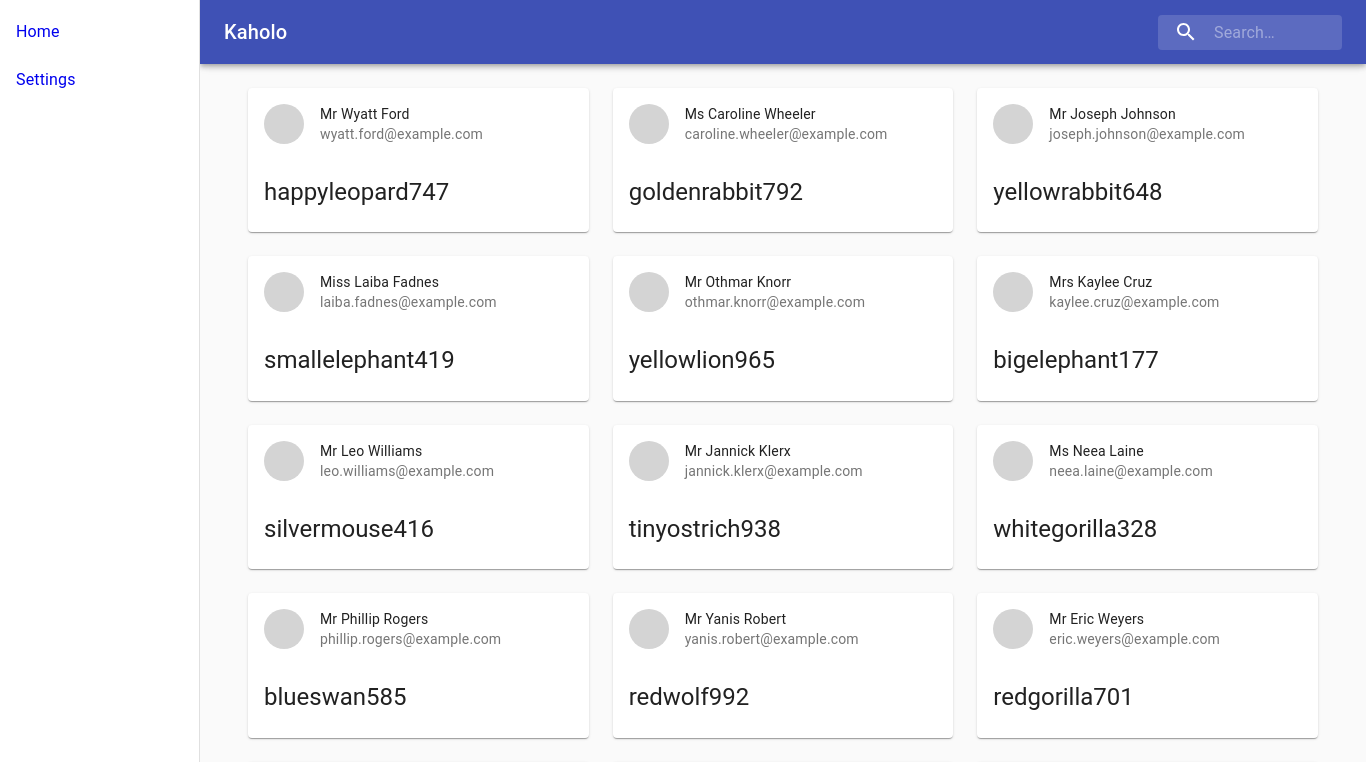
Home page › Should allow user details review
The width and height of the screenshot is (1366, 762).
Step 1. Click the element showing "Mr Wyatt Ford wyatt.ford@example.com happyleopard747" → (419, 160), box [248,88,589,232]
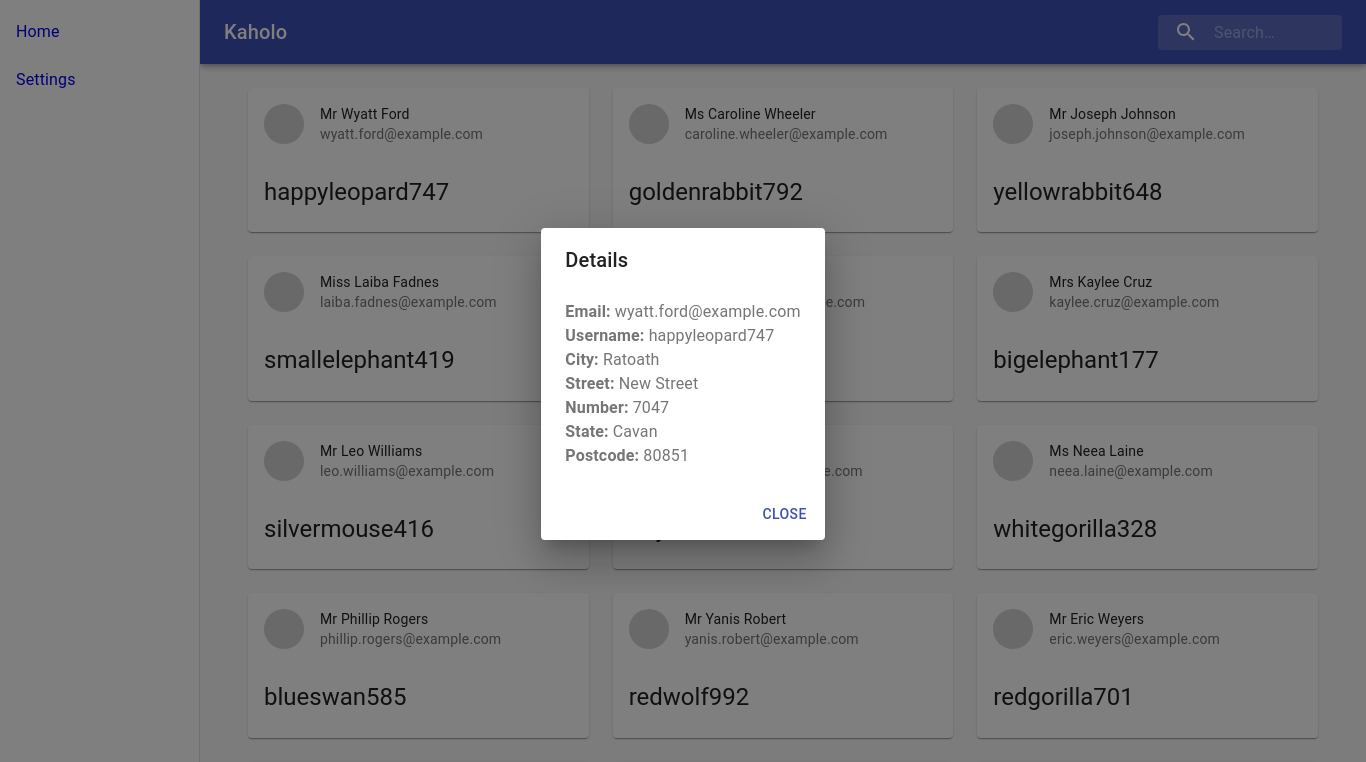
Expected: the text "wyatt.ford@example.com" is shown, [615,302,801,321]
Expected: the text "happyleopard747" is shown, [649,326,775,345]
Expected: the text "Ratoath" is shown, [603,350,660,369]
